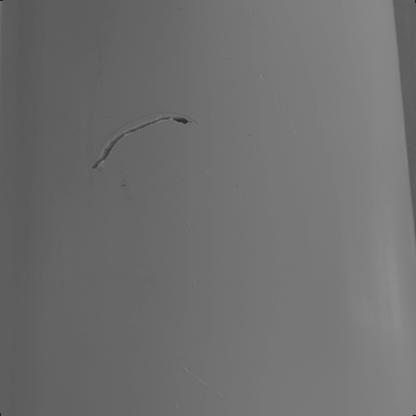fengxi: (90, 113, 191, 170)
